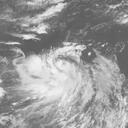cyclone: (13, 44, 110, 113)
